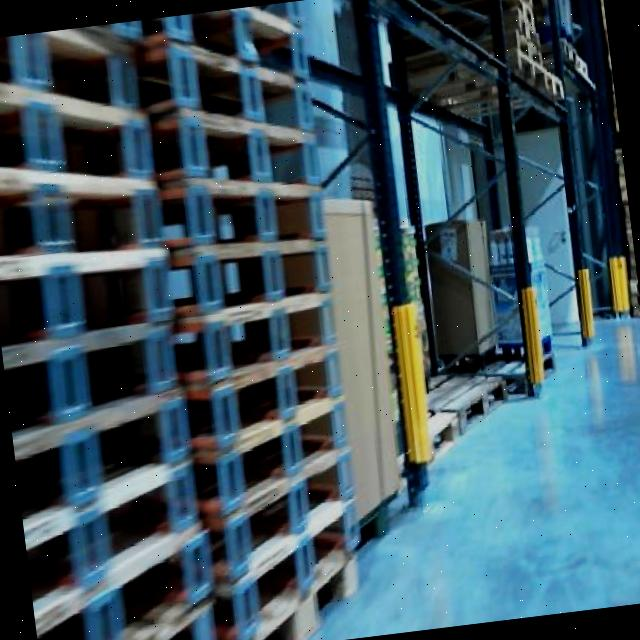ground: (7, 309, 640, 640)
pallet: (136, 0, 380, 640), (375, 0, 619, 155), (424, 364, 513, 438)
